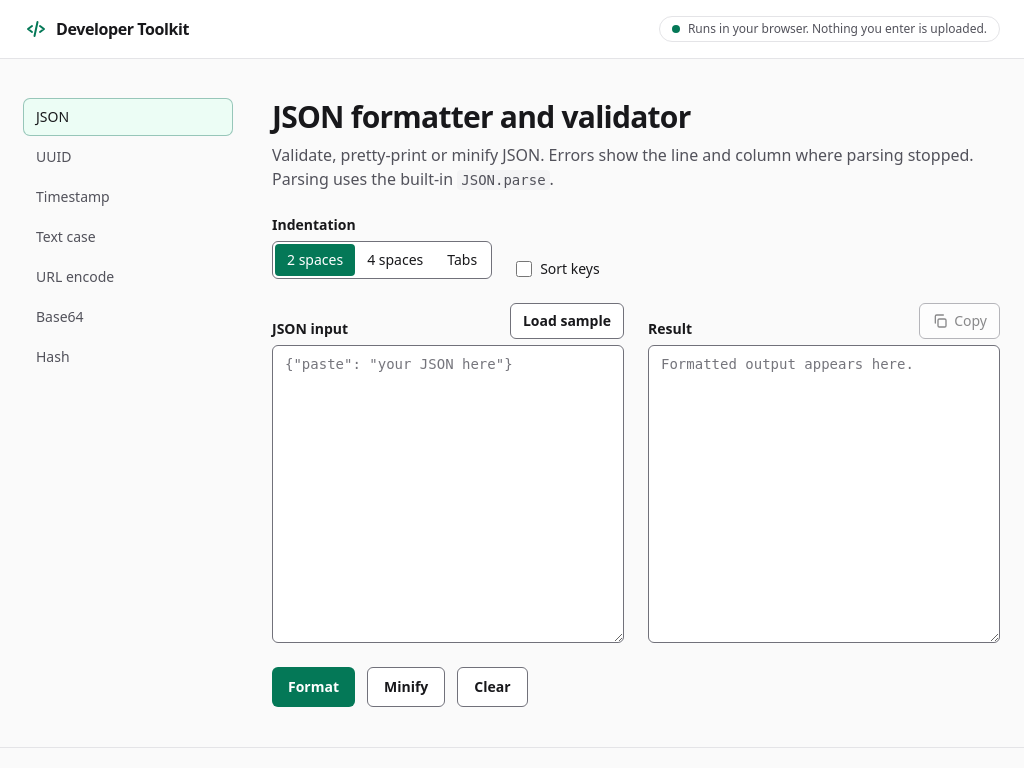
Test: App › switches tools from the URL fragment and moves focus to the new heading
Step 1. Click the link "Base64" → click(60, 316), box 36,307 -> 84,326
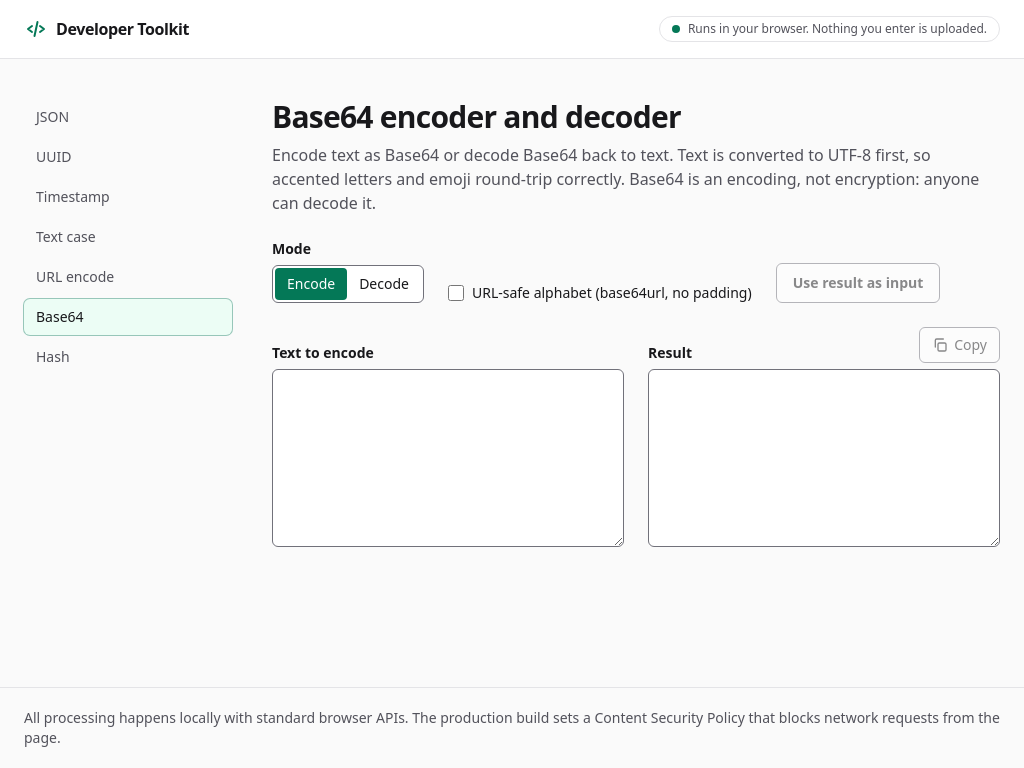
Check: the link "Base64" is marked as current, box 24,299 -> 232,335
